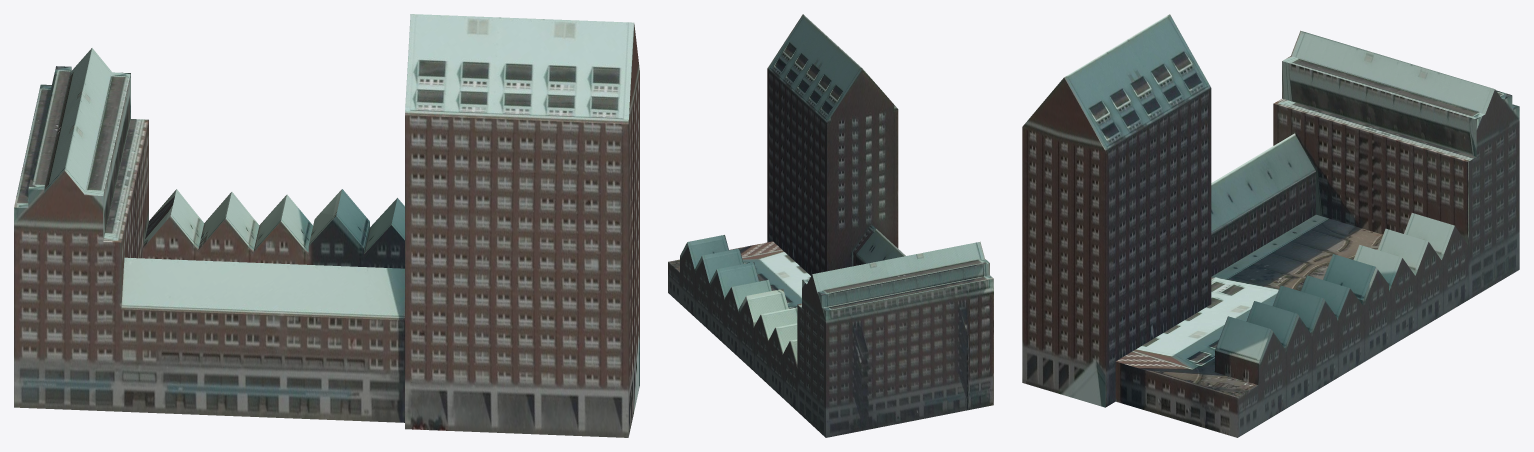
Rendered from {23087D98-821C-49DD-AAE2-2A6398D311C1}.dae.
3 views of the same model, side by side, from view 1: azimuth 30°, elevation 25°; view 2: azimuth 150°, elevation 25°; view 3: azimuth 270°, elevation 25° (orthographic). The views are drawn at different scales.
Size of the model in its own units: 85.51 by 79.33 by 55.98.
Materials: 17 (16 with a texture image).
